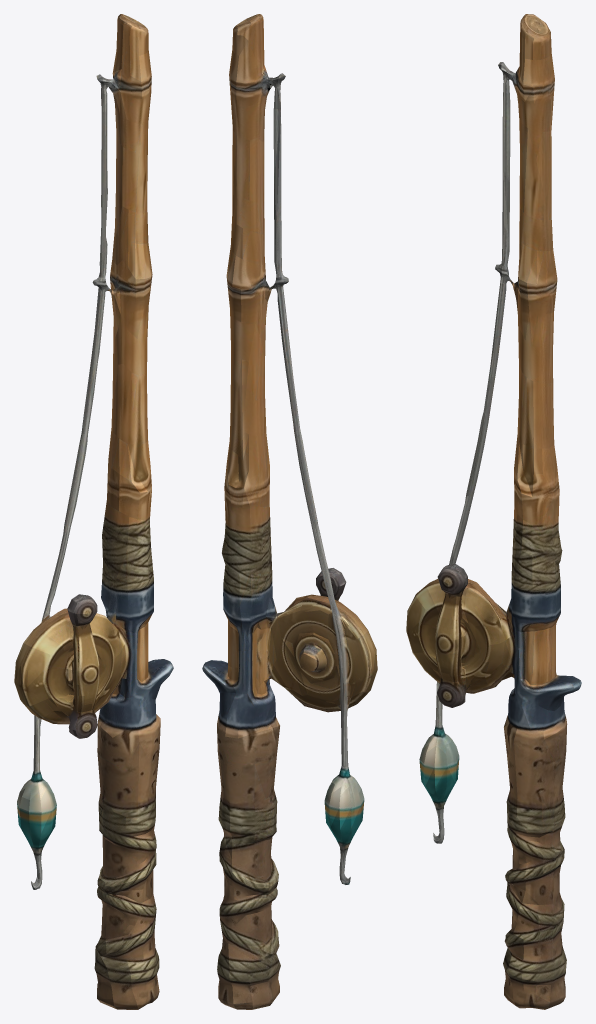
File: npc_acc_fishing_rod.glb
The picture shows the model from 3 angles, left to right: view 1: azimuth 30°, elevation 25°; view 2: azimuth 150°, elevation 25°; view 3: azimuth 330°, elevation 25°; orthographic projection.
Parts seen in each view (by area): view 1: output_unwrapped; view 2: output_unwrapped; view 3: output_unwrapped.
Part boxes in pixels (box(x1,y1,x2,y2)): output_unwrapped: box(14, 14, 173, 1009); output_unwrapped: box(202, 14, 377, 1009); output_unwrapped: box(406, 14, 581, 1009).
Bounding box in the file's own units: 0.3454 × 2 × 0.1647.
Materials: 1 (1 with a texture image).
